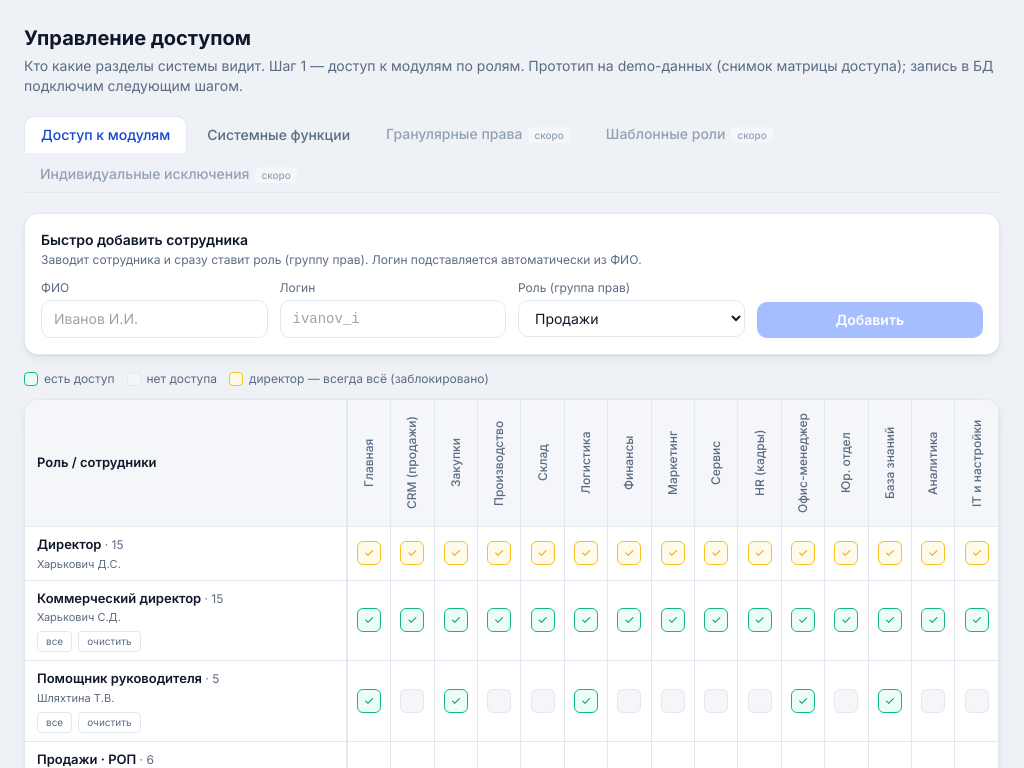
Test: AccessAdmin › вкладка «Системные функции»: карточка права и поимённая выдача сотруднику
The width and height of the screenshot is (1024, 768).
Click the button "Системные функции".
click(279, 134)  # box [191,116,366,153]
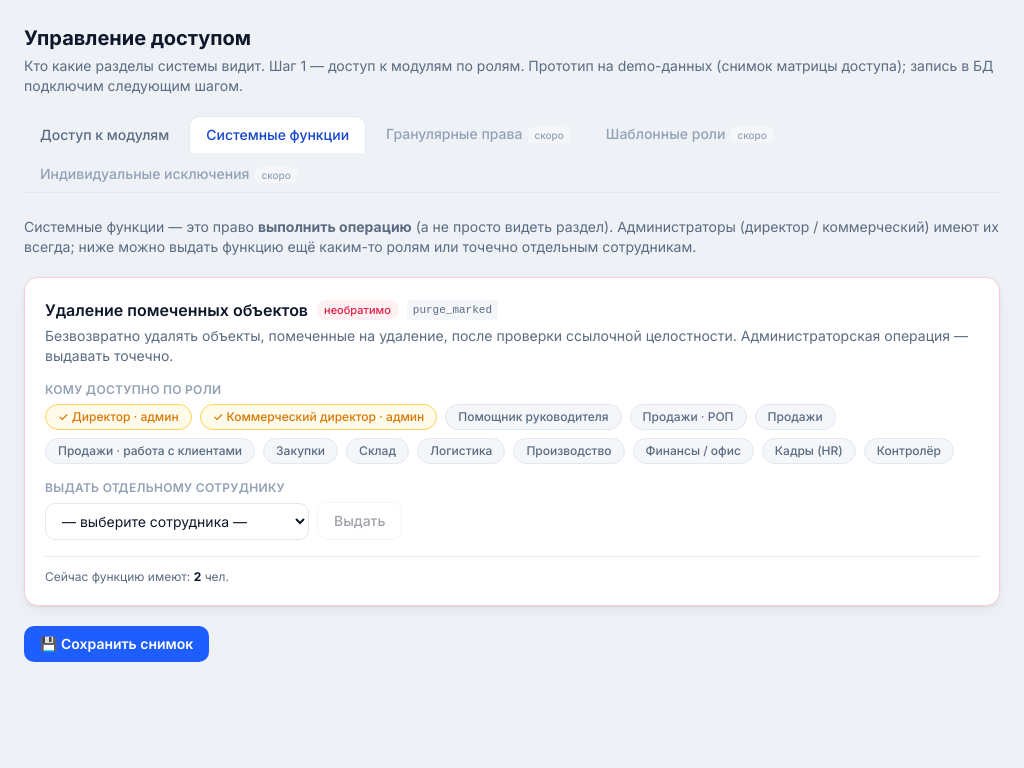
Now the heading "Удаление помеченных объектов" is shown, box [45,298,308,322]
Now the text "purge_marked" is shown, box [407,300,498,320]
Now the text "необратимо" is shown, box [316,300,399,320]
выдаём функцию конкретному сотруднику → появляется персональный чип
Select "Макаров (makarov)" in the dropdown at point(177, 521), box [45,502,309,540]
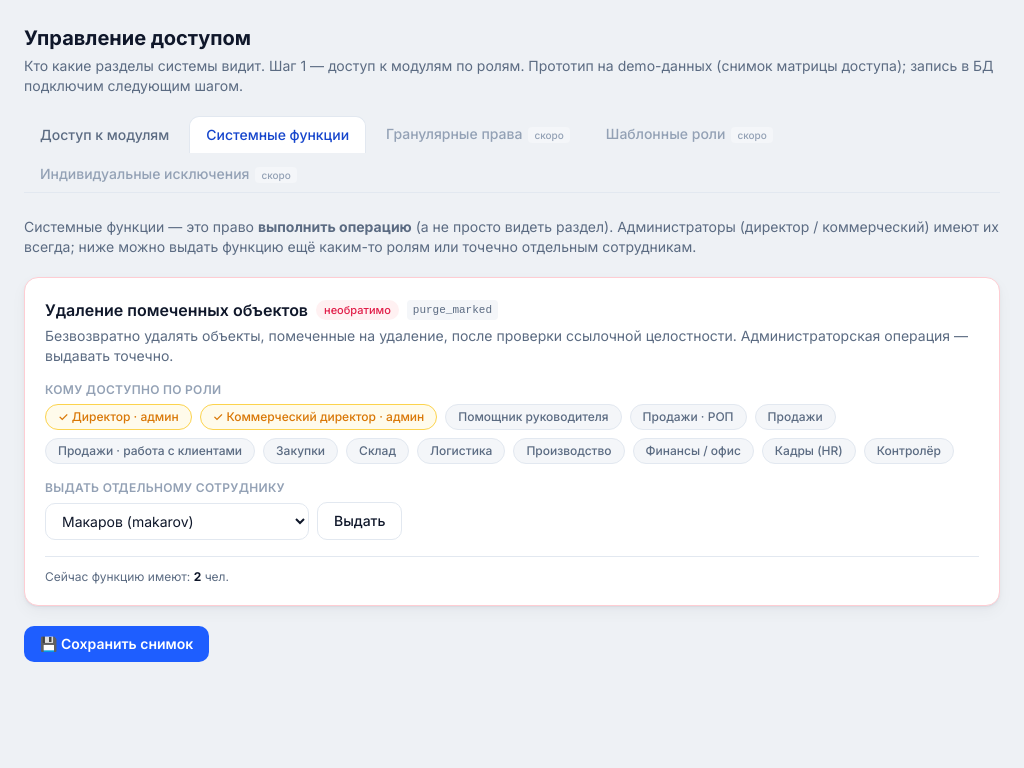
Click the button "Выдать".
click(360, 521)  # box [317,502,402,540]
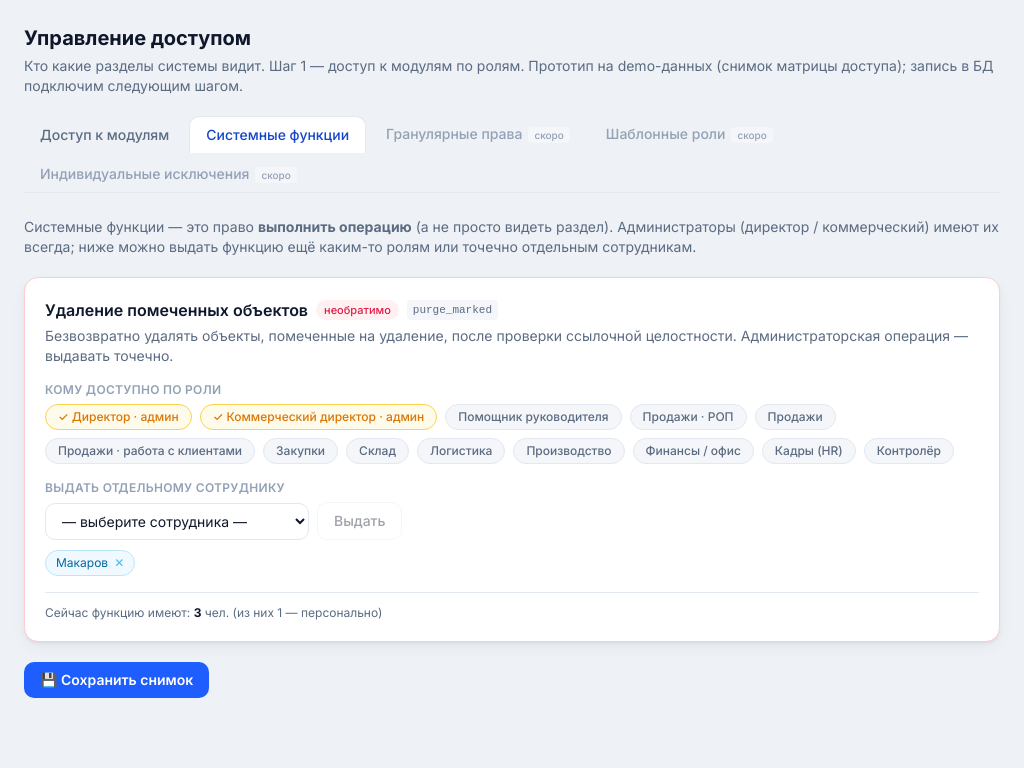
Now the text "Макаров ✕" is shown, box [45,550,135,576]
Now the text "Сейчас функцию имеют: 3 чел. (из них 1 — персонально)" is shown, box [45,592,979,621]
